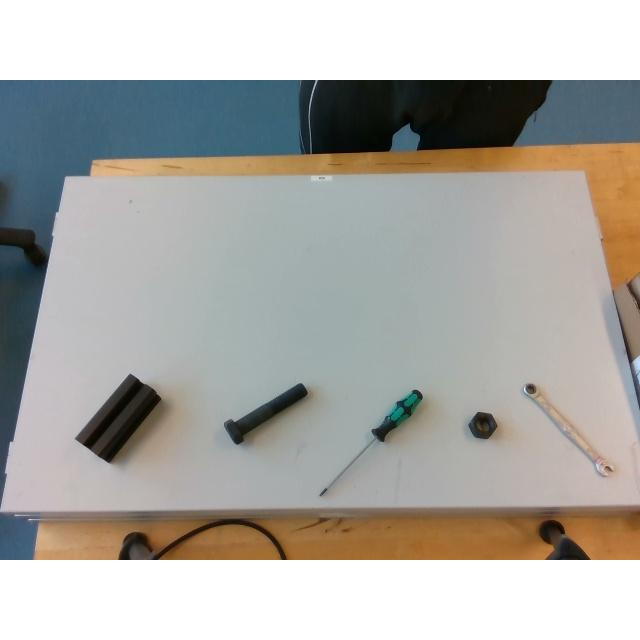M20: (467, 412, 497, 438)
M20_100: (225, 384, 308, 444)
S40_40_B: (76, 374, 160, 460)
Screwdriver: (318, 388, 422, 496)
Wrench: (522, 384, 614, 476)
